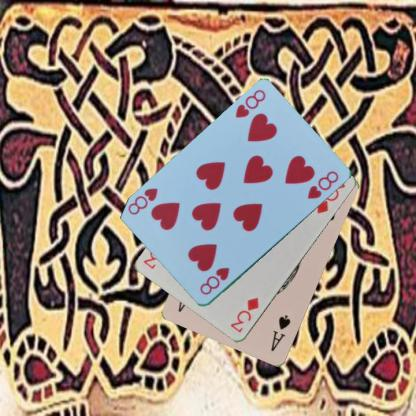3d: (228, 295, 261, 335)
8h: (232, 87, 267, 120), (197, 265, 231, 297)
As: (268, 313, 292, 353)
